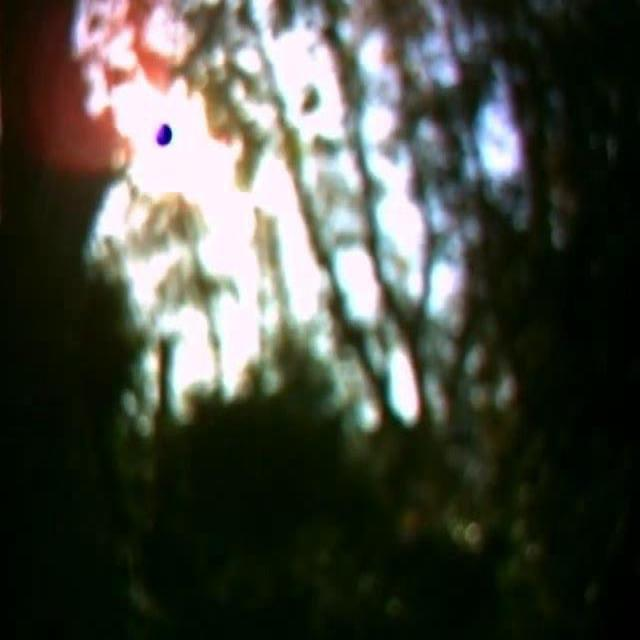other: (76, 22, 481, 410)
